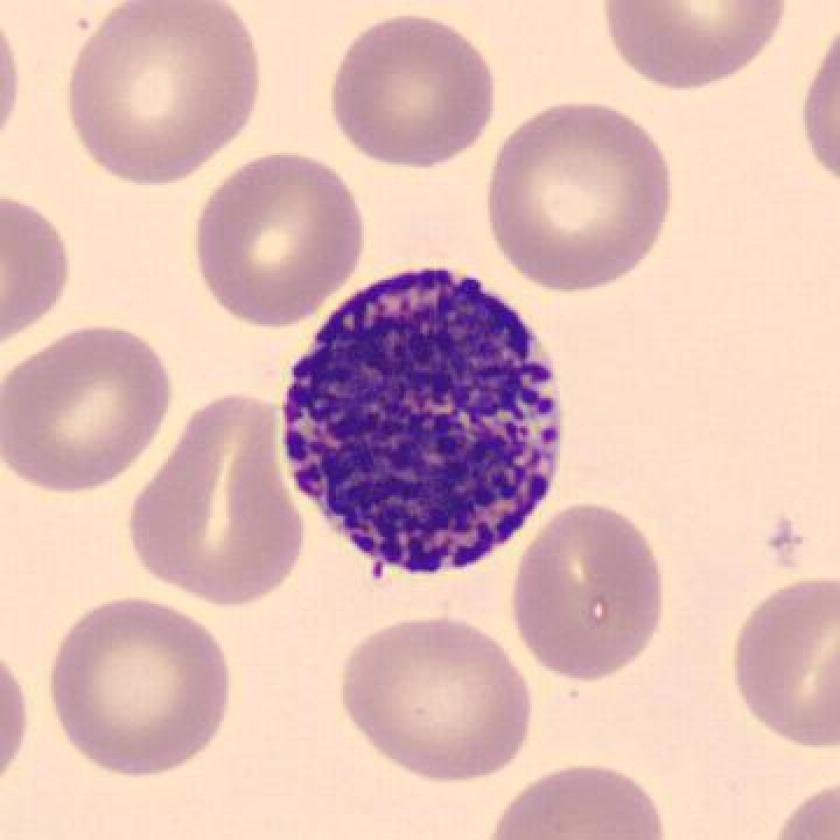basophil: (276, 265, 580, 584)
